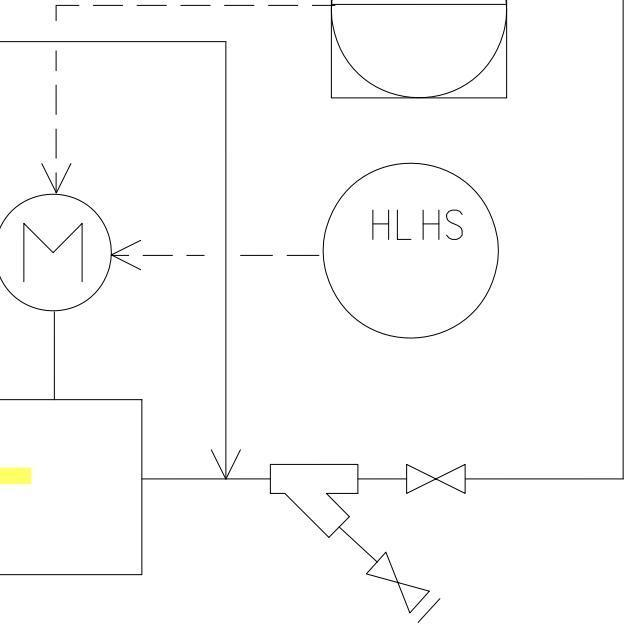GV: (363, 549, 429, 615), (401, 458, 469, 498)
M: (0, 191, 113, 313)
